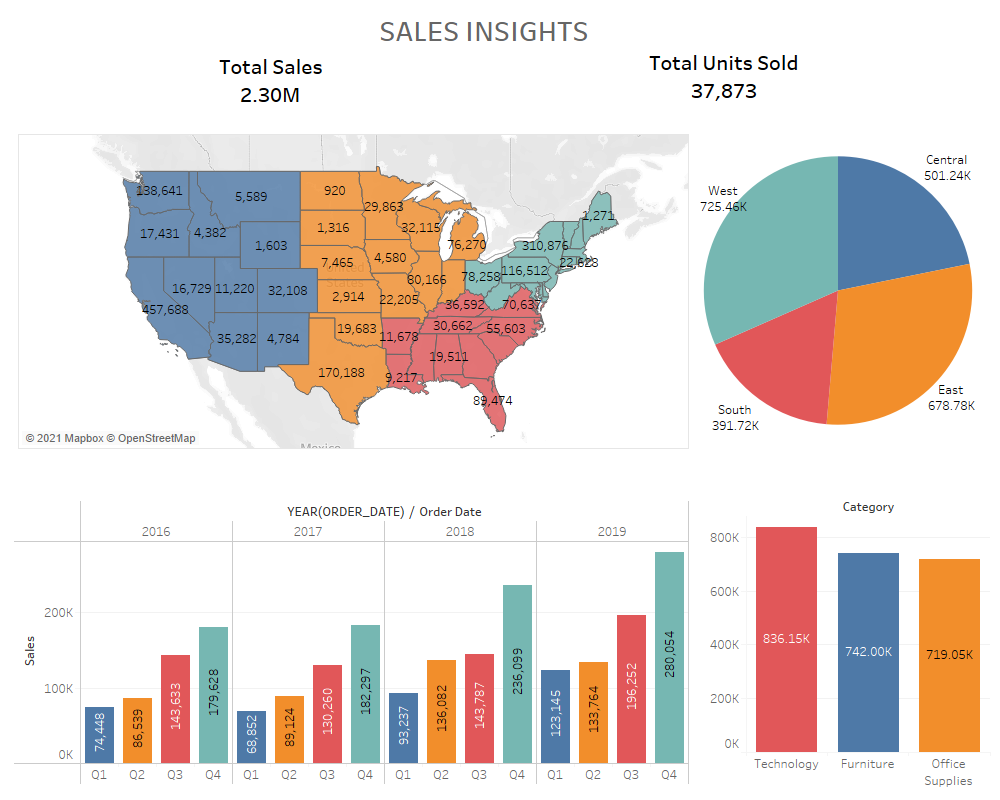

This screenshot's page, from the dashboard's own definition file:
{"tool":"tableau","page":{"name":"SALES_INSIGHTS","canvas":[1000,800],"ordinal":0},"visuals":[{"type":"text","box":[225,1,518,58]},{"type":"worksheet","title":"units sold","mark":"Automatic","box":[644,49,173,65]},{"type":"worksheet","title":"Total_sales","mark":"Automatic","box":[211,53,137,59]},{"type":"worksheet","title":"Region-wise sales(map)","mark":"Multipolygon","box":[18,134,671,315]},{"type":"worksheet","title":"Region-wise sales","mark":"Pie","box":[700,136,276,309]},{"type":"worksheet","title":"Category-wise sales","mark":"Automatic","rows":["Sales"],"cols":["Category"],"box":[705,496,285,296]},{"type":"worksheet","title":"Month-wise sales","mark":"Bar","rows":["Sales"],"cols":["Calculation_608830381956251649","Order Date"],"box":[14,501,675,284]}]}

Visuals, with their boxes in screenshot pixels (x1, y1, x2, y2), scaled from the page's 1000x800 canvas onto the 1000x800 screenshot:
text: (225, 1, 743, 59)
"units sold" worksheet: (644, 49, 817, 114)
"Total_sales" worksheet: (211, 53, 348, 112)
"Region-wise sales(map)" worksheet (Multipolygon marks): (18, 134, 689, 449)
"Region-wise sales" worksheet (Pie marks): (700, 136, 976, 445)
"Category-wise sales" worksheet: (705, 496, 990, 792)
"Month-wise sales" worksheet (Bar marks): (14, 501, 689, 785)
